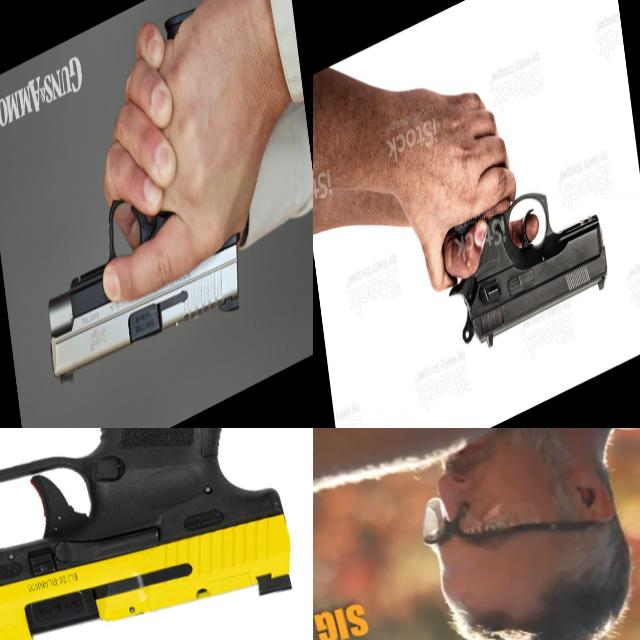handgun: (16, 0, 252, 406), (0, 428, 309, 640), (435, 128, 613, 366), (313, 476, 410, 630)
